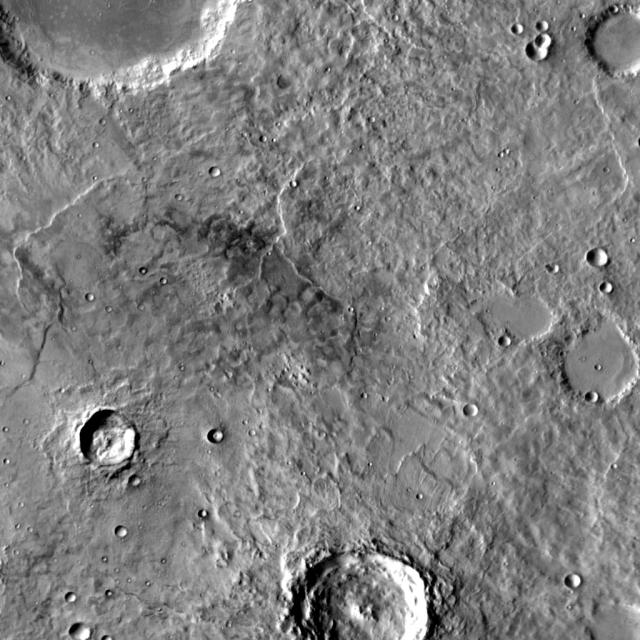crater: (4, 1, 239, 92), (300, 550, 431, 640), (559, 325, 640, 403), (585, 9, 640, 77), (80, 411, 138, 467), (508, 293, 555, 342), (589, 600, 640, 640), (525, 39, 550, 63), (268, 294, 288, 315), (587, 247, 608, 267), (68, 623, 90, 640), (278, 72, 294, 90), (535, 34, 551, 48), (564, 574, 580, 588), (208, 429, 223, 443), (463, 403, 478, 417), (536, 20, 548, 32), (586, 391, 598, 403), (115, 526, 127, 538), (600, 282, 612, 293), (512, 23, 523, 34), (547, 264, 559, 274), (499, 336, 511, 346), (208, 167, 220, 177), (128, 476, 140, 486), (205, 362, 216, 372), (65, 593, 76, 603), (217, 559, 227, 569), (193, 521, 204, 530), (238, 578, 248, 586), (258, 552, 268, 560), (206, 495, 215, 503), (85, 293, 94, 301), (610, 5, 619, 13), (256, 626, 264, 634), (293, 626, 301, 634), (199, 510, 207, 518), (220, 552, 228, 559), (248, 429, 256, 436), (290, 180, 297, 188), (486, 331, 493, 338), (213, 392, 220, 399), (226, 371, 233, 378), (416, 493, 423, 500), (368, 116, 375, 123), (175, 193, 182, 200), (318, 432, 326, 438), (498, 151, 506, 157), (590, 15, 598, 21), (258, 423, 266, 429), (360, 392, 368, 398), (382, 396, 390, 402), (139, 268, 147, 274), (280, 104, 288, 110), (101, 636, 113, 640), (259, 136, 267, 142), (610, 463, 618, 469), (92, 142, 100, 148), (238, 572, 245, 578), (452, 473, 459, 479), (160, 394, 167, 400), (595, 364, 601, 371), (392, 15, 399, 21), (160, 278, 167, 284), (28, 558, 34, 564), (116, 344, 122, 350), (13, 16, 19, 22), (250, 588, 256, 594), (106, 306, 112, 312), (20, 155, 26, 161), (138, 304, 144, 310), (560, 351, 566, 357), (385, 316, 391, 322), (234, 511, 240, 517), (503, 148, 509, 154), (541, 351, 547, 357), (106, 590, 112, 596), (603, 167, 609, 173), (22, 419, 28, 425), (100, 119, 106, 125), (388, 378, 395, 383), (637, 137, 640, 148), (299, 422, 305, 427), (253, 442, 259, 447), (257, 408, 262, 414), (579, 357, 585, 362), (48, 93, 54, 98), (230, 49, 236, 54), (242, 132, 248, 137), (52, 558, 58, 563), (215, 471, 220, 477), (71, 326, 76, 332), (347, 148, 352, 154), (59, 388, 65, 393), (275, 122, 281, 127), (348, 307, 354, 312), (114, 568, 120, 573), (18, 502, 24, 507), (306, 563, 312, 568), (4, 459, 10, 464), (223, 497, 228, 502), (367, 462, 372, 467), (364, 261, 369, 266), (243, 420, 248, 425), (462, 118, 467, 123), (179, 366, 184, 371), (145, 581, 150, 586), (142, 177, 147, 182), (226, 622, 231, 627), (28, 527, 33, 532), (498, 153, 503, 158), (15, 524, 20, 529), (630, 238, 635, 243), (3, 427, 8, 432), (102, 557, 107, 562), (249, 346, 253, 352), (300, 472, 306, 476), (20, 374, 26, 378), (559, 322, 565, 326), (560, 59, 566, 63), (360, 144, 364, 150), (568, 590, 574, 594), (5, 96, 11, 100), (367, 240, 371, 246), (579, 14, 585, 18), (354, 206, 360, 210), (572, 26, 576, 32), (449, 251, 454, 255), (384, 39, 389, 43), (442, 55, 447, 59), (267, 387, 271, 392), (396, 328, 401, 332), (413, 334, 418, 338), (287, 461, 291, 466), (0, 361, 4, 366), (380, 306, 384, 311), (168, 636, 173, 640), (69, 155, 74, 159), (142, 505, 147, 509), (546, 217, 550, 222), (407, 488, 411, 493), (453, 366, 458, 370), (90, 50, 94, 55), (491, 482, 496, 486), (622, 218, 627, 222), (77, 214, 82, 218), (138, 525, 143, 529), (237, 61, 242, 65), (129, 108, 133, 113), (197, 172, 202, 176), (161, 559, 166, 563), (207, 449, 211, 454), (451, 87, 456, 91), (272, 138, 276, 143), (92, 176, 97, 180), (267, 251, 271, 256), (496, 167, 500, 172), (326, 67, 330, 72), (4, 483, 9, 487), (115, 579, 119, 584), (551, 17, 556, 21), (14, 550, 18, 555), (537, 92, 541, 96), (598, 75, 602, 79), (142, 214, 146, 218), (474, 172, 478, 176), (56, 90, 60, 94), (532, 428, 536, 432), (78, 525, 82, 529), (312, 6, 316, 10), (584, 186, 588, 190), (420, 266, 424, 270), (537, 248, 541, 252), (209, 388, 213, 392), (504, 562, 508, 566), (158, 609, 162, 613), (77, 560, 81, 564), (580, 144, 584, 148), (174, 376, 178, 380), (152, 157, 156, 161), (34, 601, 38, 605), (324, 176, 328, 180), (491, 186, 495, 190), (533, 196, 537, 200), (409, 375, 413, 379), (567, 605, 571, 609), (239, 210, 243, 214), (127, 578, 131, 582), (574, 100, 578, 104), (0, 103, 3, 108), (119, 109, 122, 113), (0, 560, 2, 566), (225, 128, 229, 131), (89, 359, 92, 363), (556, 1, 560, 4), (90, 505, 94, 508), (248, 0, 252, 2)
